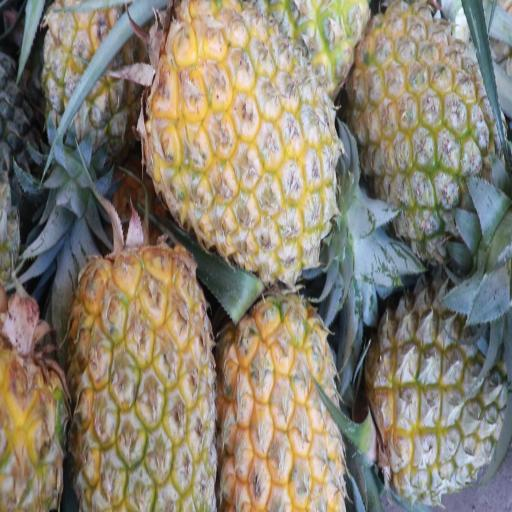------------------------------: (370, 279, 504, 491), (47, 0, 142, 158)
Pineapple - v8 v1: (150, 4, 336, 266), (72, 251, 218, 512), (354, 3, 493, 229), (221, 297, 344, 512)
